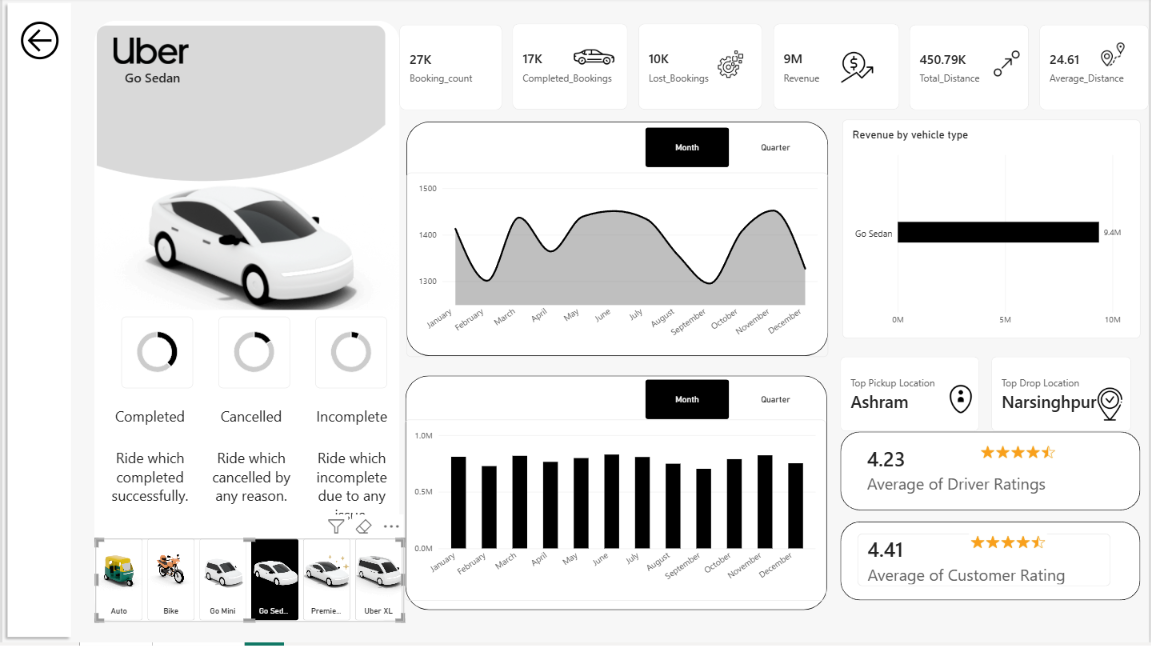

What the dashboard file says about the page in this screenshot:
{"tool":"powerbi","page":{"name":"Overview","canvas":[1920,1080],"ordinal":1},"visuals":[{"type":"group","id":"g1","title":"Group 1","box":[0,0,1920,1079.7],"z":0},{"type":"shape","box":[0,0,123.8,1079.7],"z":0,"group":"g1"},{"type":"advancedSlicerVisual","fields":{"Values":["Uber.Vehicle_Type"]},"box":[155.2,907,518,137.8],"z":1000},{"type":"actionButton","box":[8.7,0,108.1,143],"z":1001},{"type":"shape","box":[153.5,38.4,511,1006.4],"z":2000,"group":"g1"},{"type":"image","box":[136,47.1,528.5,453.5],"z":3000,"group":"g1"},{"type":"image","box":[155.2,66.3,186.6,43.6],"z":4000,"group":"g1"},{"type":"cardVisual","fields":{"Data":["_measures.Booking_count"]},"box":[664.5,44.5,172.7,143],"z":5000,"group":"g1"},{"type":"cardVisual","fields":{"Data":["_measures.Completed_bookings"]},"box":[854.7,43.6,193.6,144.8],"z":6000,"group":"g1"},{"type":"cardVisual","fields":{"Data":["_measures.Lost_Bookings"]},"box":[1065.7,43.6,207.6,144.8],"z":7000,"group":"g1"},{"type":"cardVisual","fields":{"Data":["_measures.Booking_value"]},"box":[1290.7,43.6,211,144.8],"z":8000,"group":"g1"},{"type":"cardVisual","fields":{"Data":["_measures.Total_Distance"]},"box":[1519.2,44.5,200.6,143],"z":9000,"group":"g1"},{"type":"cardVisual","fields":{"Data":["_measures.Average_Distance"]},"box":[1736.9,44.5,183.1,143],"z":10000,"group":"g1"},{"type":"cardVisual","fields":{"Data":["Min(Uber.Vehicle_Type)"]},"box":[153.5,76.7,195.3,113.4],"z":12000,"group":"g1"},{"type":"cardVisual","fields":{"Data":["Min(IMG.Img)"]},"box":[155.2,22.7,509.3,500.6],"z":13000,"group":"g1"},{"type":"shape","box":[677.2,207.9,706.4,392.4],"z":14000,"group":"g1"},{"type":"stackedAreaChart","title":"Completed Bookings by Month","fields":{"Category":["Uber.Date.Variation.Date Hierarchy.Month"],"Y":["_measures.Completed_Bookings"]},"box":[677.2,292.3,706.4,308.7],"z":15000,"group":"g1"},{"type":"shape","box":[675.1,634,706.4,392.4],"z":16000,"group":"g1"},{"type":"columnChart","fields":{"Category":["Uber.Date.Variation.Date Hierarchy.Month"],"Y":["_measures.Booking_value"]},"box":[673.3,706.4,706.4,303.5],"z":17000,"group":"g1"},{"type":"advancedSlicerVisual","fields":{"Values":["Date Axis.Date Axis"]},"box":[1076.5,218.2,289.5,66.3],"z":18000,"group":"g1"},{"type":"advancedSlicerVisual","fields":{"Values":["Date Axis.Date Axis"]},"box":[1076.2,640.1,289.5,66.3],"z":19000,"group":"g1"},{"type":"clusteredBarChart","title":"Revenue by vehicle type","fields":{"Y":["_measures.Booking_value"],"Category":["Uber.Vehicle_Type"]},"box":[1407.6,204.1,498.8,366.3],"z":20000,"group":"g1"},{"type":"cardVisual","fields":{"Data":["Min(Uber.Pickup Location)"]},"box":[1403.8,601,232.6,125.6],"z":21000,"group":"g1"},{"type":"cardVisual","fields":{"Data":["Min(Uber.Drop Location)"]},"box":[1657,601,234.6,125.6],"z":22000,"group":"g1"},{"type":"image","box":[1819.6,652.5,72,55.6],"z":23000,"group":"g1"},{"type":"image","box":[1574.6,636,61.7,72],"z":24000,"group":"g1"},{"type":"image","box":[1657,88.5,51.5,43.2],"z":25000,"group":"g1"},{"type":"image","box":[934.5,65.9,113.2,67.9],"z":26000,"group":"g1"},{"type":"image","box":[1379.1,88.5,107,53.5],"z":27000,"group":"g1"},{"type":"image","box":[1829.9,76.2,61.7,39.1],"z":28000,"group":"g1"},{"type":"image","box":[1169.1,88.5,100.9,45.3],"z":29000,"group":"g1"},{"type":"shape","box":[1403.8,726.6,502.2,131.7],"z":30000,"group":"g1"},{"type":"shape","box":[1403.8,876.8,502.2,131.7],"z":31000,"group":"g1"},{"type":"cardVisual","fields":{"Data":["Avg(Uber.Driver Ratings)"]},"box":[1432.6,747.2,387,88.5],"z":32000,"group":"g1"},{"type":"cardVisual","fields":{"Data":["Avg(Uber.Customer Rating)"]},"box":[1432.6,897.4,424,88.5],"z":33000,"group":"g1"},{"type":"image","box":[1589,881,189.4,61.7],"z":34000,"group":"g1"},{"type":"image","box":[1605.5,730.7,189.4,61.7],"z":35000,"group":"g1"},{"type":"donutChart","fields":{"Y":["CountNonNull(Uber.Booking Status)","_measures.Bookings_Remove_Status_Filter"]},"box":[199.7,534.5,120,120],"z":36000,"group":"g1"},{"type":"donutChart","fields":{"Y":["CountNonNull(Uber.Booking Status)","_measures.Bookings_Remove_Status_Filter"]},"box":[362.3,534.5,120,120],"z":37000,"group":"g1"},{"type":"donutChart","fields":{"Y":["CountNonNull(Uber.Booking Status)","_measures.Bookings_Remove_Status_Filter"]},"box":[524.9,534.5,120,120],"z":38000,"group":"g1"},{"type":"textbox","box":[175,685.4,146.1,195.5],"z":39000,"group":"g1"},{"type":"textbox","box":[341.7,685.4,150.3,207.9],"z":40000,"group":"g1"},{"type":"textbox","box":[506.3,685.4,158.5,230.5],"z":41000,"group":"g1"}]}

Visuals, with their boxes in screenshot pixels (x1, y1, x2, y2), scaled from the page's 1920x1080 canvas onto the 1151x646 screenshot:
"Group 1" group: {"left": 0, "top": 0, "right": 1150, "bottom": 645}
shape: {"left": 0, "top": 0, "right": 74, "bottom": 645}
advancedSlicerVisual - Uber.Vehicle_Type: {"left": 93, "top": 543, "right": 404, "bottom": 625}
actionButton: {"left": 5, "top": 0, "right": 70, "bottom": 86}
shape: {"left": 92, "top": 23, "right": 398, "bottom": 625}
image: {"left": 82, "top": 28, "right": 398, "bottom": 299}
image: {"left": 93, "top": 40, "right": 205, "bottom": 66}
cardVisual - _measures.Booking_count: {"left": 398, "top": 27, "right": 502, "bottom": 112}
cardVisual - _measures.Completed_bookings: {"left": 512, "top": 26, "right": 628, "bottom": 113}
cardVisual - _measures.Lost_Bookings: {"left": 639, "top": 26, "right": 763, "bottom": 113}
cardVisual - _measures.Booking_value: {"left": 774, "top": 26, "right": 900, "bottom": 113}
cardVisual - _measures.Total_Distance: {"left": 911, "top": 27, "right": 1031, "bottom": 112}
cardVisual - _measures.Average_Distance: {"left": 1041, "top": 27, "right": 1150, "bottom": 112}
cardVisual - Min(Uber.Vehicle_Type): {"left": 92, "top": 46, "right": 209, "bottom": 114}
cardVisual - Min(IMG.Img): {"left": 93, "top": 14, "right": 398, "bottom": 313}
shape: {"left": 406, "top": 124, "right": 829, "bottom": 359}
"Completed Bookings by Month" stackedAreaChart: {"left": 406, "top": 175, "right": 829, "bottom": 359}
shape: {"left": 405, "top": 379, "right": 828, "bottom": 614}
columnChart - Uber.Date.Variation.Date Hierarchy.Month x _measures.Booking_value: {"left": 404, "top": 423, "right": 827, "bottom": 604}
advancedSlicerVisual - Date Axis.Date Axis: {"left": 645, "top": 131, "right": 819, "bottom": 170}
advancedSlicerVisual - Date Axis.Date Axis: {"left": 645, "top": 383, "right": 819, "bottom": 423}
"Revenue by vehicle type" clusteredBarChart: {"left": 844, "top": 122, "right": 1143, "bottom": 341}
cardVisual - Min(Uber.Pickup Location): {"left": 842, "top": 359, "right": 981, "bottom": 435}
cardVisual - Min(Uber.Drop Location): {"left": 993, "top": 359, "right": 1134, "bottom": 435}
image: {"left": 1091, "top": 390, "right": 1134, "bottom": 424}
image: {"left": 944, "top": 380, "right": 981, "bottom": 423}
image: {"left": 993, "top": 53, "right": 1024, "bottom": 79}
image: {"left": 560, "top": 39, "right": 628, "bottom": 80}
image: {"left": 827, "top": 53, "right": 891, "bottom": 85}
image: {"left": 1097, "top": 46, "right": 1134, "bottom": 69}
image: {"left": 701, "top": 53, "right": 761, "bottom": 80}
shape: {"left": 842, "top": 435, "right": 1143, "bottom": 513}
shape: {"left": 842, "top": 524, "right": 1143, "bottom": 603}
cardVisual - Avg(Uber.Driver Ratings): {"left": 859, "top": 447, "right": 1091, "bottom": 500}
cardVisual - Avg(Uber.Customer Rating): {"left": 859, "top": 537, "right": 1113, "bottom": 590}
image: {"left": 953, "top": 527, "right": 1066, "bottom": 564}
image: {"left": 962, "top": 437, "right": 1076, "bottom": 474}
donutChart - CountNonNull(Uber.Booking Status) x _measures.Bookings_Remove_Status_Filter: {"left": 120, "top": 320, "right": 192, "bottom": 391}
donutChart - CountNonNull(Uber.Booking Status) x _measures.Bookings_Remove_Status_Filter: {"left": 217, "top": 320, "right": 289, "bottom": 391}
donutChart - CountNonNull(Uber.Booking Status) x _measures.Bookings_Remove_Status_Filter: {"left": 315, "top": 320, "right": 387, "bottom": 391}
textbox: {"left": 105, "top": 410, "right": 192, "bottom": 527}
textbox: {"left": 205, "top": 410, "right": 295, "bottom": 534}
textbox: {"left": 304, "top": 410, "right": 399, "bottom": 548}
